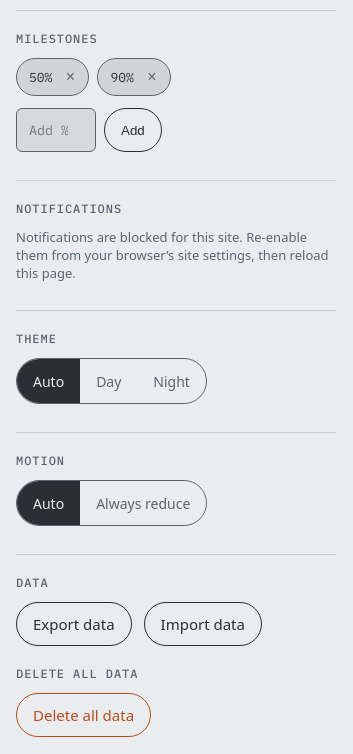
<Settings> delete all data › cancel leaves everything untouched
(page scrolled)
What coordinates should you click on to do the following:
click the button "Delete all data"
I would click on:
 (84, 715)
Its box is left=16, top=693, right=151, bottom=737.
(page scrolled)
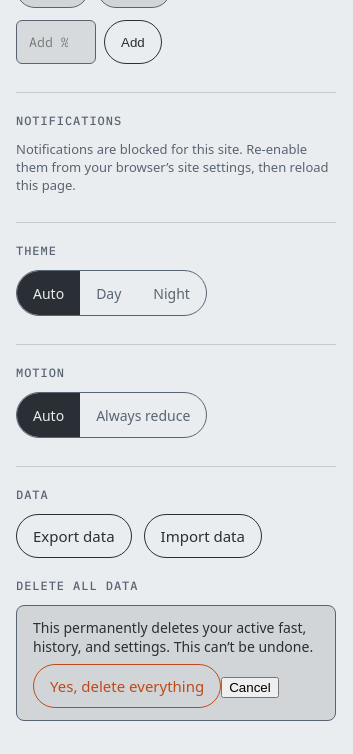
What coordinates should you click on to do the following:
click the button "Cancel"
I would click on:
 (250, 688)
Its box is left=221, top=677, right=279, bottom=698.
(page scrolled)
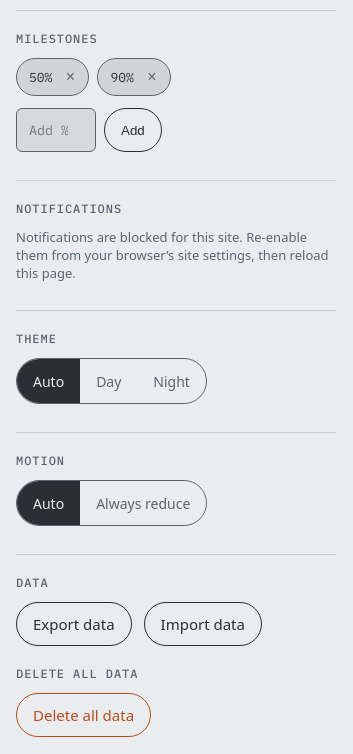
Expected: the button "Yes, delete everything" is gone
